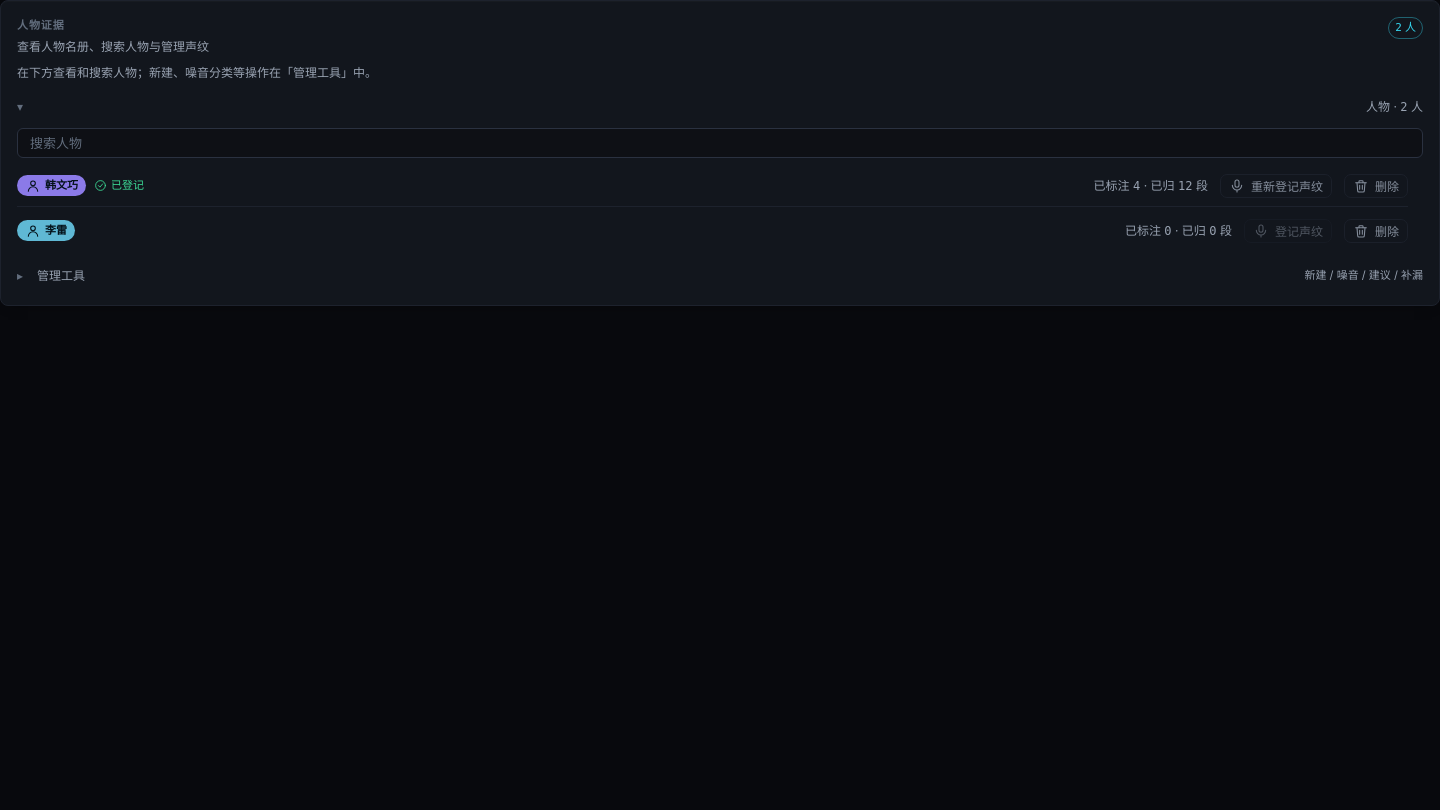
PeoplePanel › the 全局识别 control carries a one-line '按声纹补齐' helper
This screenshot has width=1440, height=810.
Click the heading "管理工具 新建 / 噪音 / 建议 / 补漏": (61, 275) [37,268,1423,282]
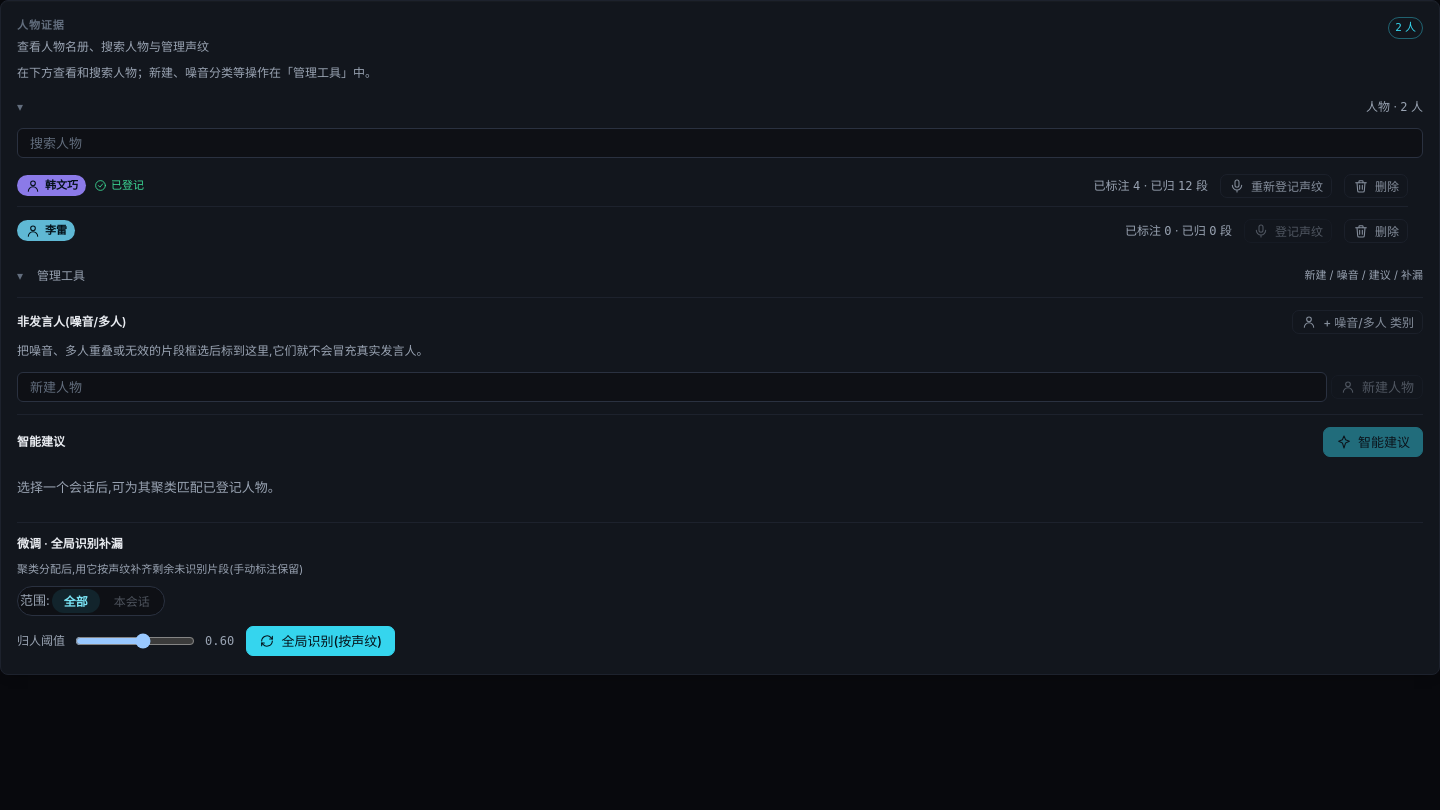
Check: the text "聚类分配后,用它按声纹补齐剩余未识别片段(手动标注保留)" is shown, box [17,562,303,576]
